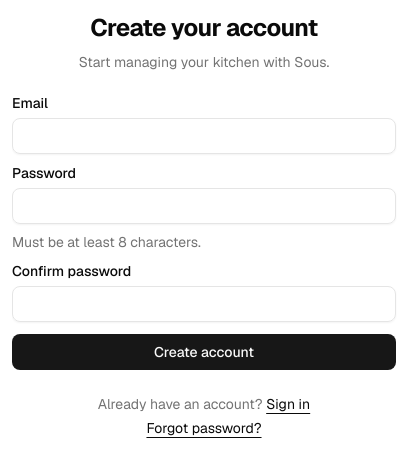
RegisterForm › swaps to the check-inbox view and sheds the form footer after sending
In the field labelled "Email": (204, 136) [12, 118, 396, 154], type "a@b.com"
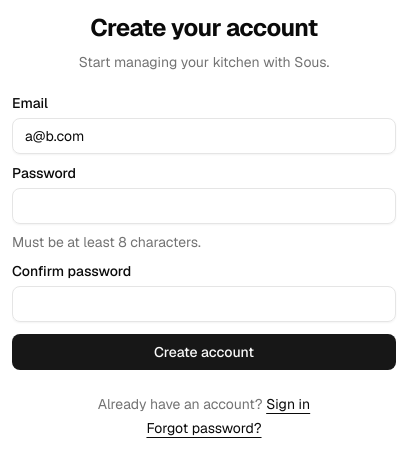
In the password field labelled "Password": (204, 206) [12, 188, 396, 224], type "password1"
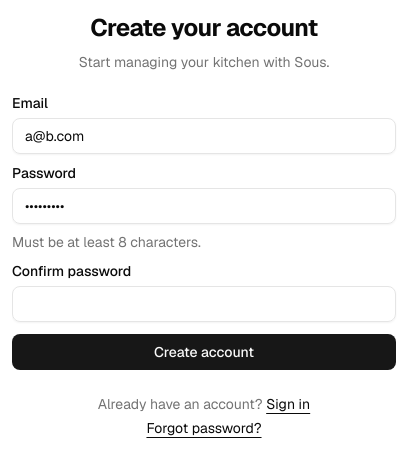
In the password field labelled "Confirm password": (204, 304) [12, 286, 396, 322], type "password1"
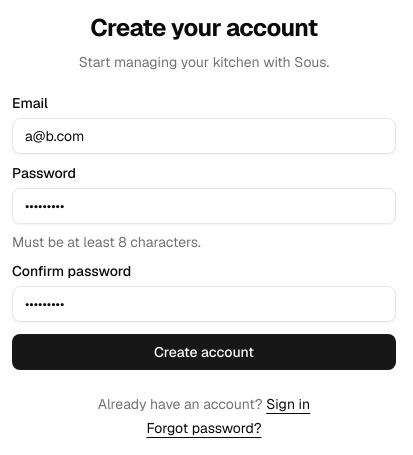
Click the button "Create account": click(204, 352) [12, 334, 396, 370]
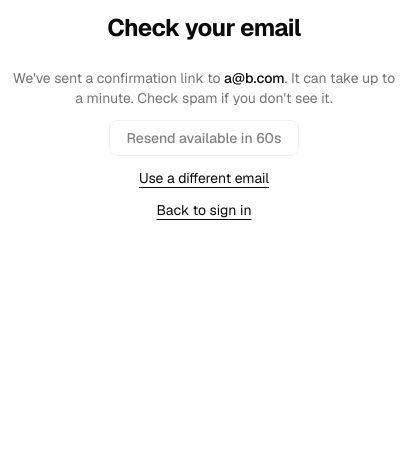
Now the heading "Check your email" is shown, box [107, 12, 301, 43]
Now the text "a@b.com" is shown, box [224, 69, 285, 87]
Now the text "spam" is shown, box [75, 69, 395, 107]
